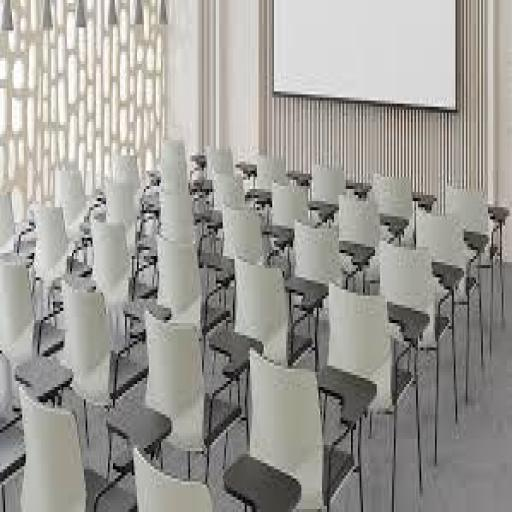chair: (326, 274, 426, 512), (374, 230, 458, 498), (446, 178, 510, 318)
